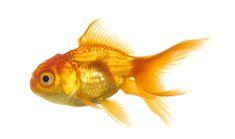goldfish: (25, 34, 200, 116)
